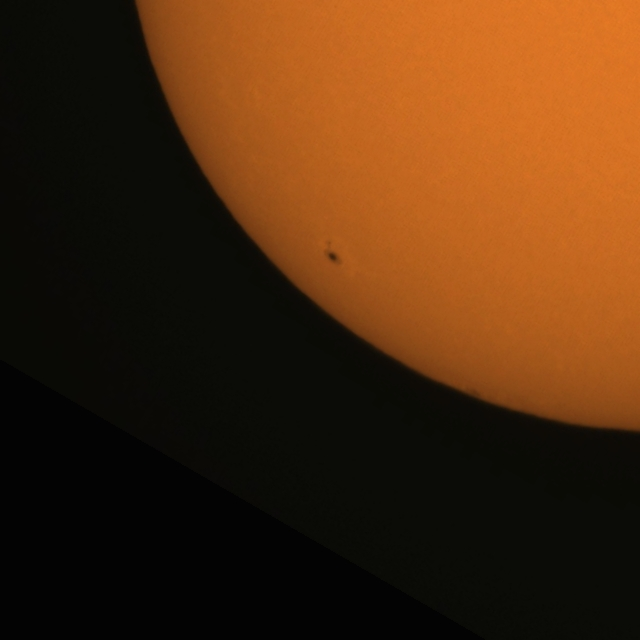sunspot: (322, 239, 343, 267)
